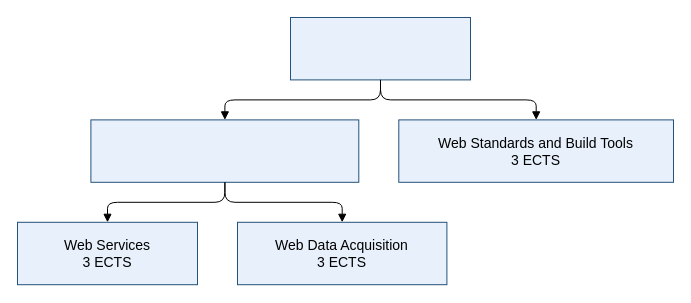
Some shapes in this 691 by 303 pixel diagram are drawn without their labels. Here are the shapes that lost their labels. From the top down, the box of each, then its label:
(290, 16, 470, 80): Web Foundations 3 ECTS
(90, 119, 359, 182): Web Application Development 3 ECTS
